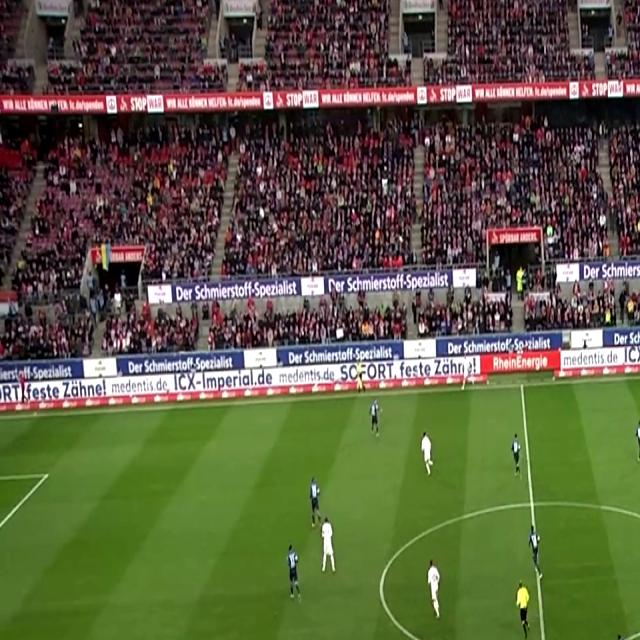ball: (513, 567, 539, 640)
soccer-player: (317, 514, 345, 580), (421, 556, 447, 626), (281, 542, 306, 608), (302, 472, 327, 530), (505, 426, 527, 489), (528, 514, 547, 581), (417, 428, 440, 480), (365, 397, 385, 443), (630, 417, 640, 467), (610, 626, 639, 640)
